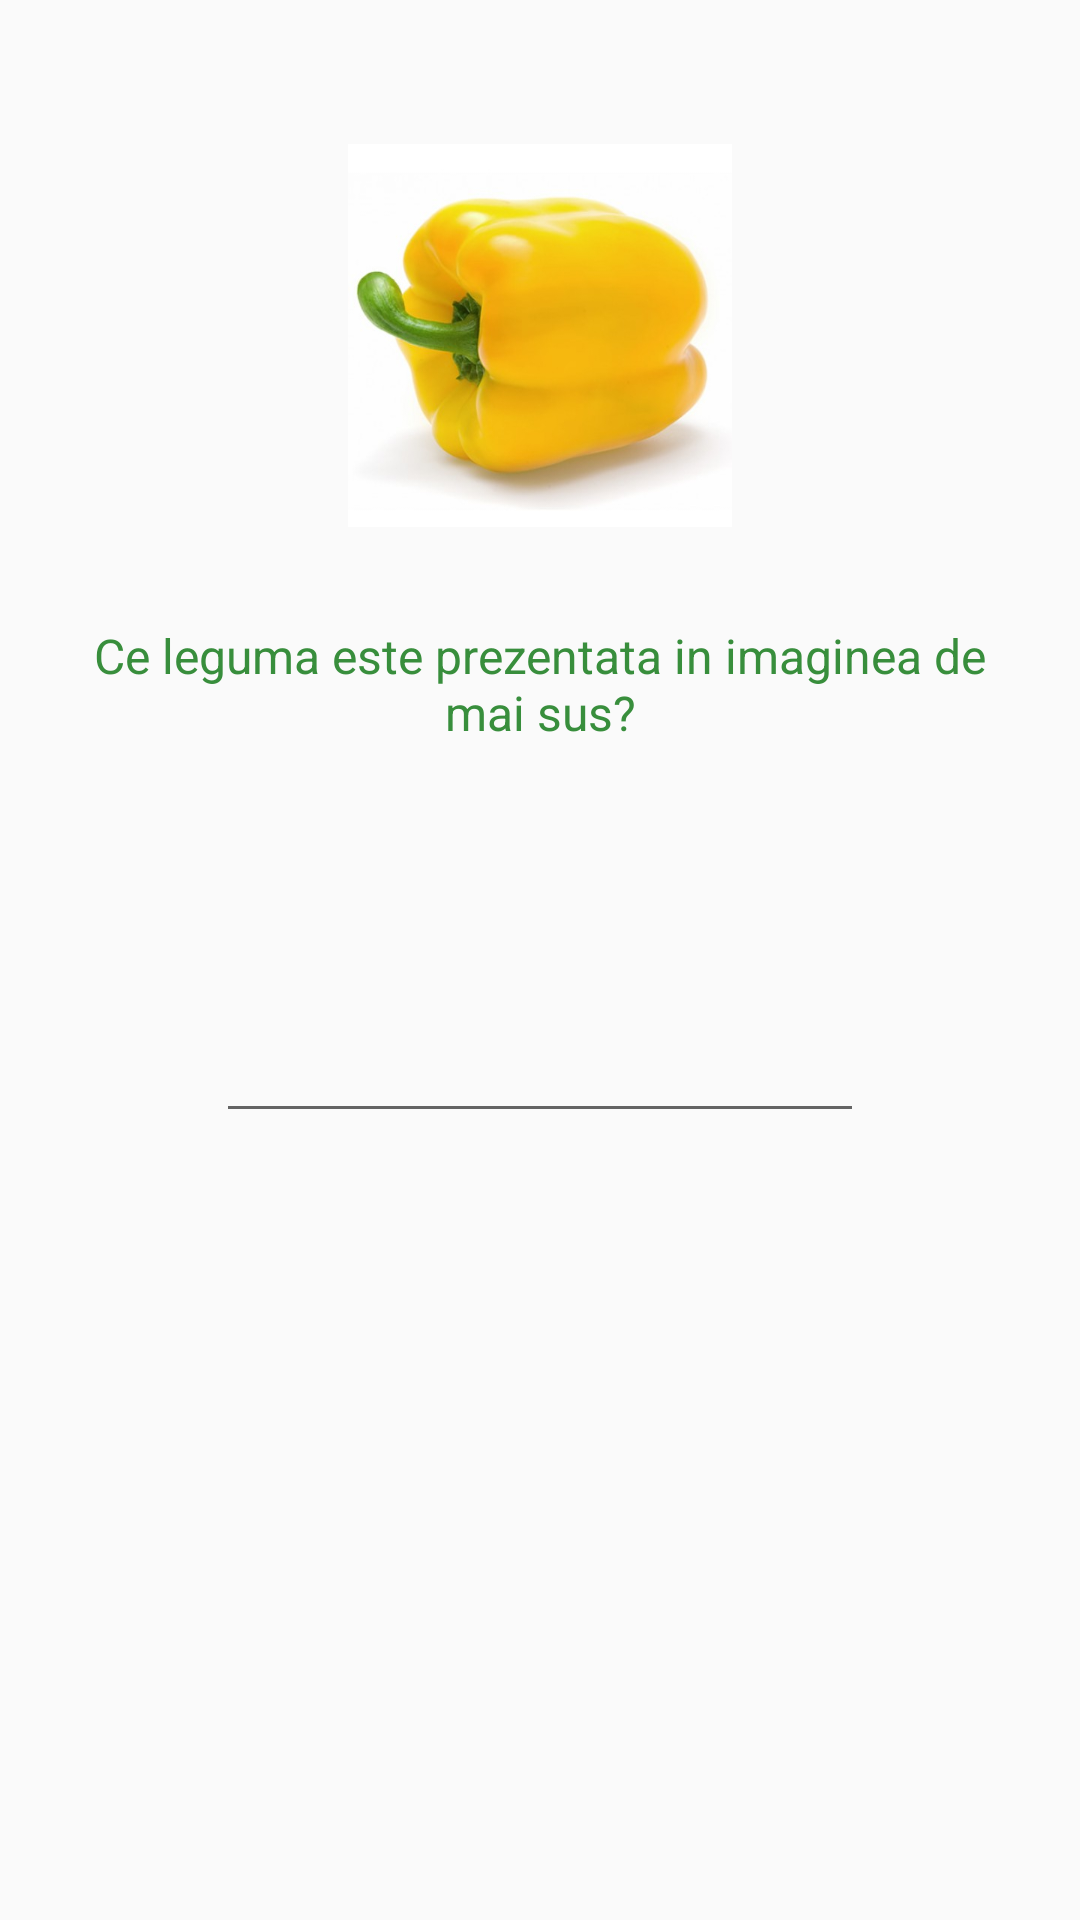

Where to tap for icons on this 1080w x 1920h app screen, as (x,y):
ardei galben: (532,349)
